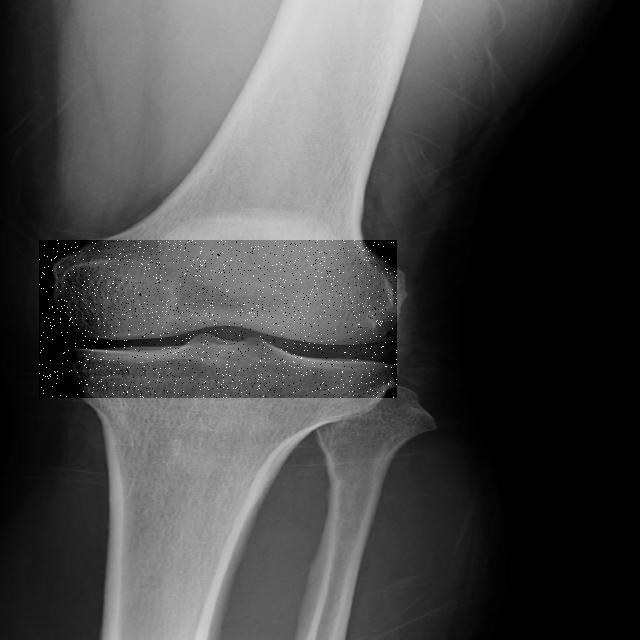osteo: (39, 240, 397, 398)
